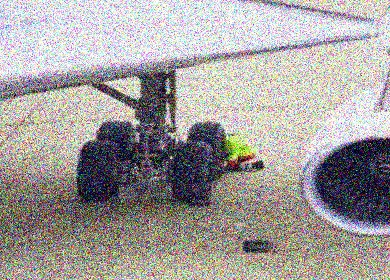chock: (243, 240, 276, 253), (186, 196, 216, 207)
wheel: (76, 137, 123, 203), (172, 137, 217, 205), (186, 121, 228, 182), (98, 119, 138, 160)
